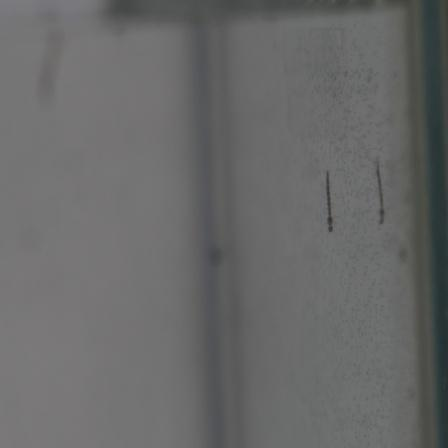Jentik-Nyamuk: (317, 167, 343, 241)
